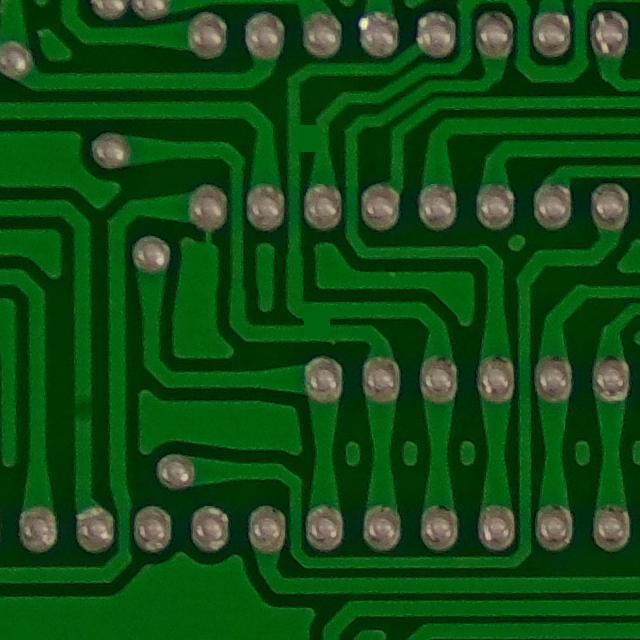short: (289, 290, 352, 350)
